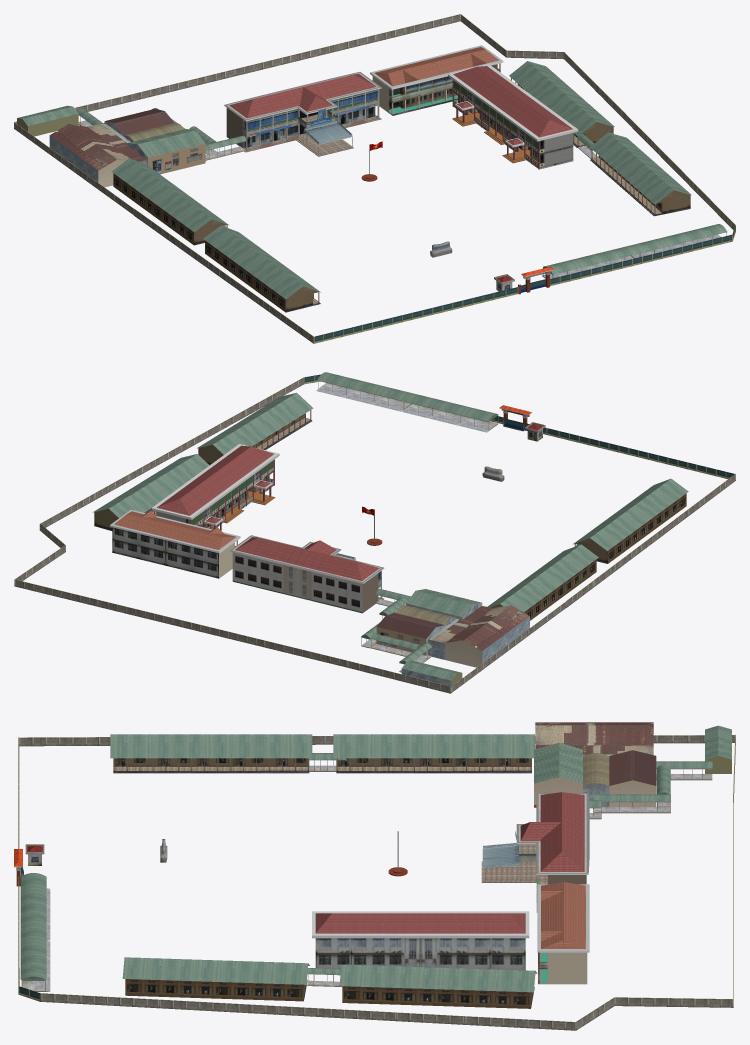
File: Truong Tieu Hoc Tan Phu.glb
3 renders of one model, top to bottom at view 1: azimuth 30°, elevation 25°; view 2: azimuth 150°, elevation 25°; view 3: azimuth 270°, elevation 25°, orthographic. The views are drawn at different scales.
Parts seen in each view (by area): view 1: 1-2, 1-2.Nha phu, 4, 2, 2-1, 3-2, 3-1; view 2: 1-2, 1-2.Nha phu, 4, 2, 2-1, 3-2, 3-1; view 3: 2, 2-1, 1-2, 1-2.Nha phu, 3-2, 4, 3-1.
Boxes of the visible parts, x1=… form: 1-2: x1=14, y1=14, x2=735, y2=343; 1-2.Nha phu: x1=17, y1=105, x2=245, y2=187; 4: x1=224, y1=72, x2=381, y2=156; 2: x1=111, y1=158, x2=320, y2=312; 2-1: x1=509, y1=61, x2=691, y2=216; 3-2: x1=448, y1=64, x2=578, y2=169; 3-1: x1=370, y1=45, x2=503, y2=115; 1-2: x1=14, y1=372, x2=735, y2=693; 1-2.Nha phu: x1=361, y1=588, x2=529, y2=686; 4: x1=230, y1=535, x2=384, y2=613; 2: x1=487, y1=478, x2=688, y2=620; 2-1: x1=92, y1=392, x2=313, y2=530; 3-2: x1=151, y1=444, x2=279, y2=530; 3-1: x1=110, y1=509, x2=240, y2=578; 2: x1=110, y1=734, x2=534, y2=773; 2-1: x1=122, y1=957, x2=537, y2=1008; 1-2: x1=14, y1=734, x2=735, y2=1030; 1-2.Nha phu: x1=534, y1=722, x2=731, y2=819; 3-2: x1=312, y1=911, x2=529, y2=970; 4: x1=481, y1=792, x2=589, y2=912; 3-1: x1=537, y1=882, x2=589, y2=984.
Bounding box in the file's own units: 142 × 11.79 × 151.
Materials: 7 (7 with a texture image).
